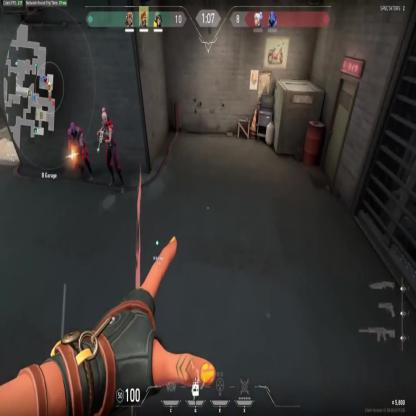enemy: (98, 106, 124, 194), (66, 116, 92, 180)
enemy_head: (101, 106, 109, 127), (70, 121, 76, 136)
